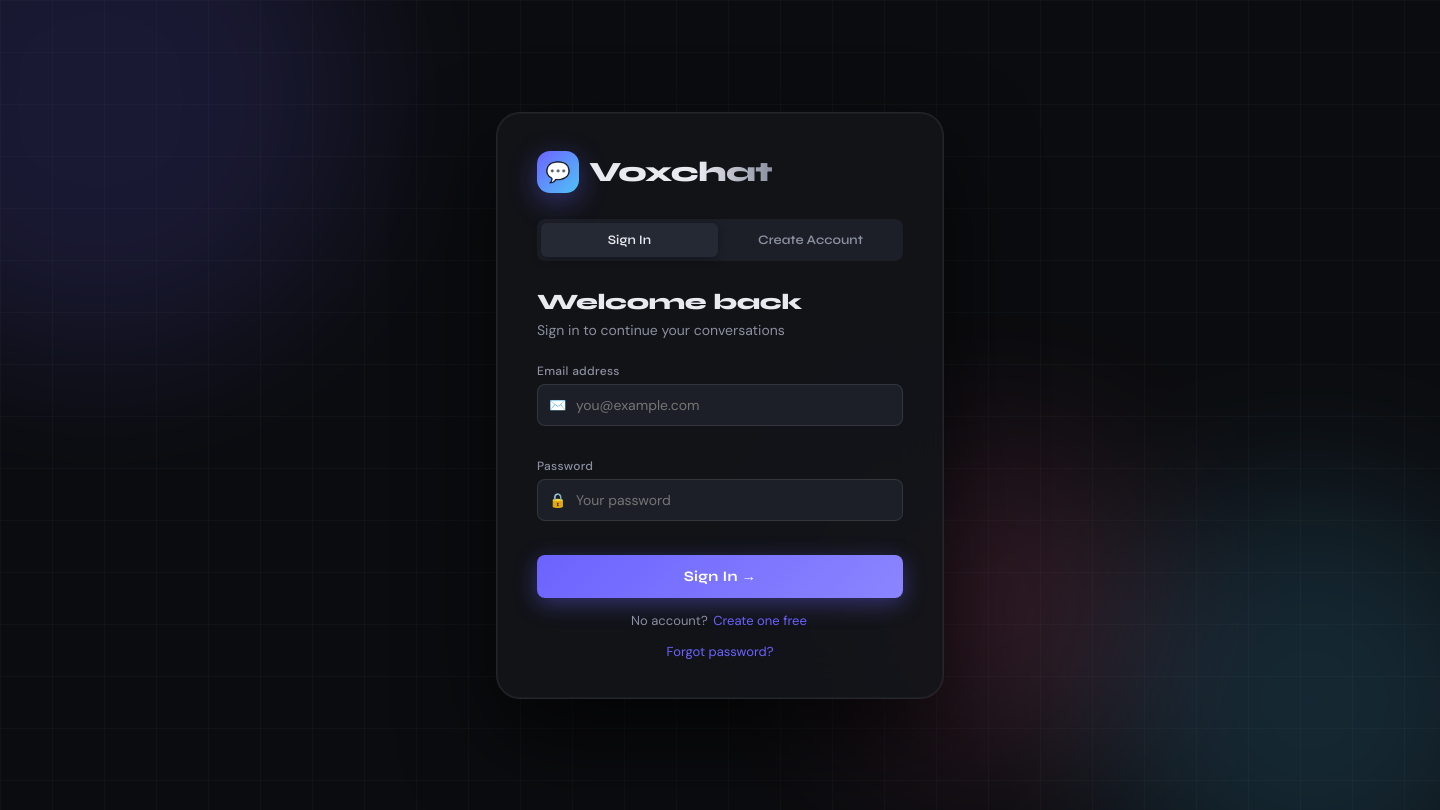
Test: AuthPage › login API error shows message
Type "test@example.com" into the field labelled "Email address". click: (720, 404)
box: 537,384 -> 903,426
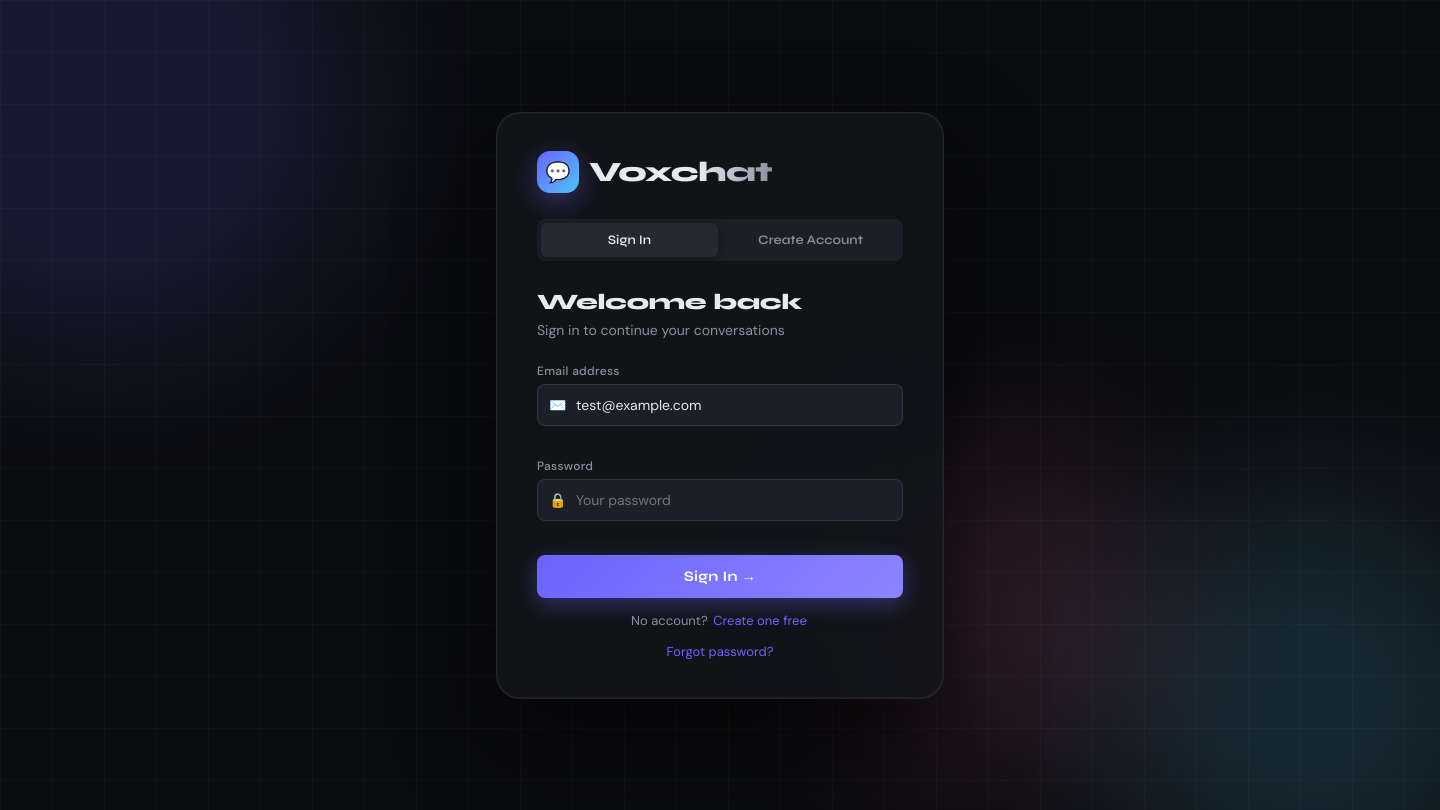
Type "password123" into the password field labelled "Password". click: (720, 500)
box: 537,478 -> 903,520
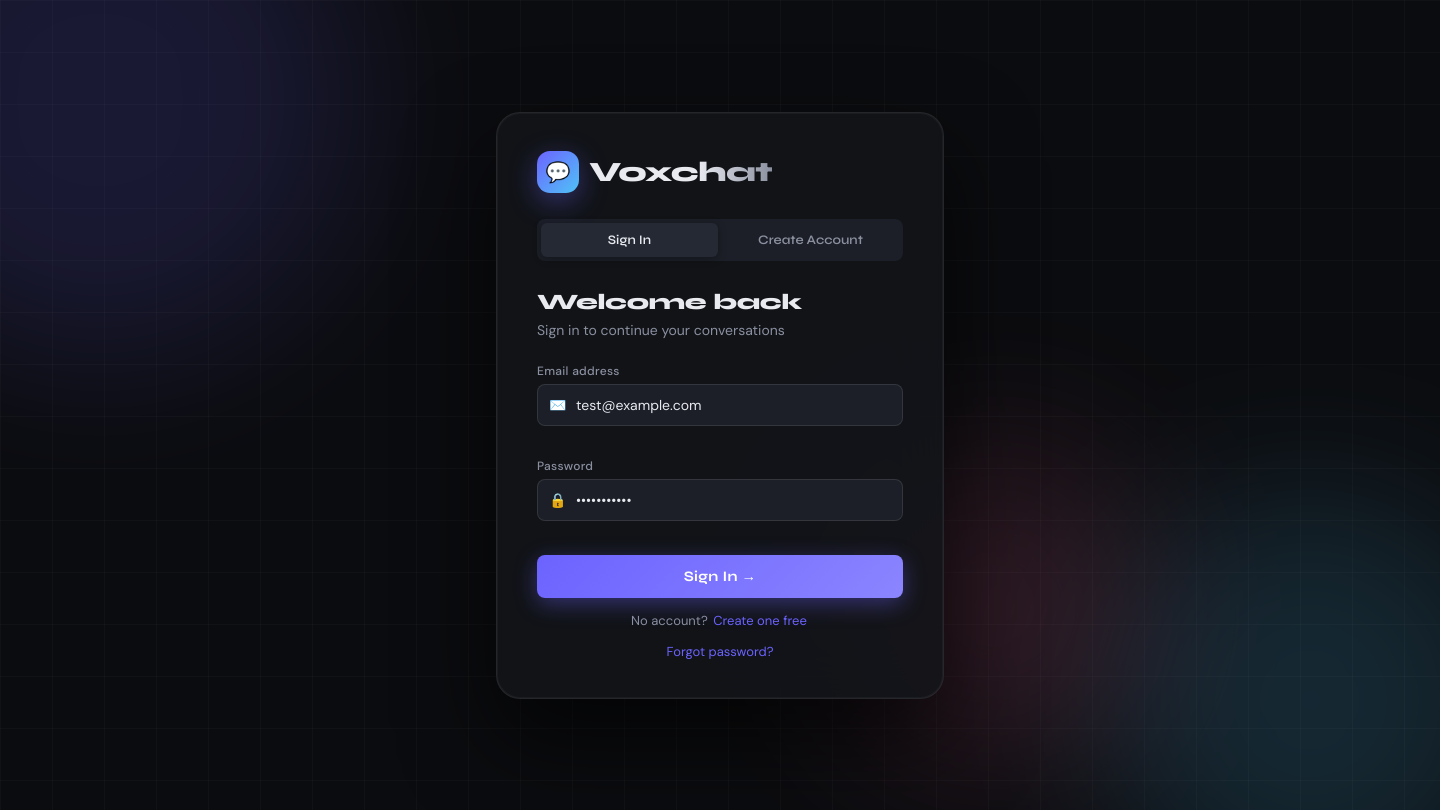
Click the button "Sign In →". click: (720, 576)
box: 537,554 -> 903,598
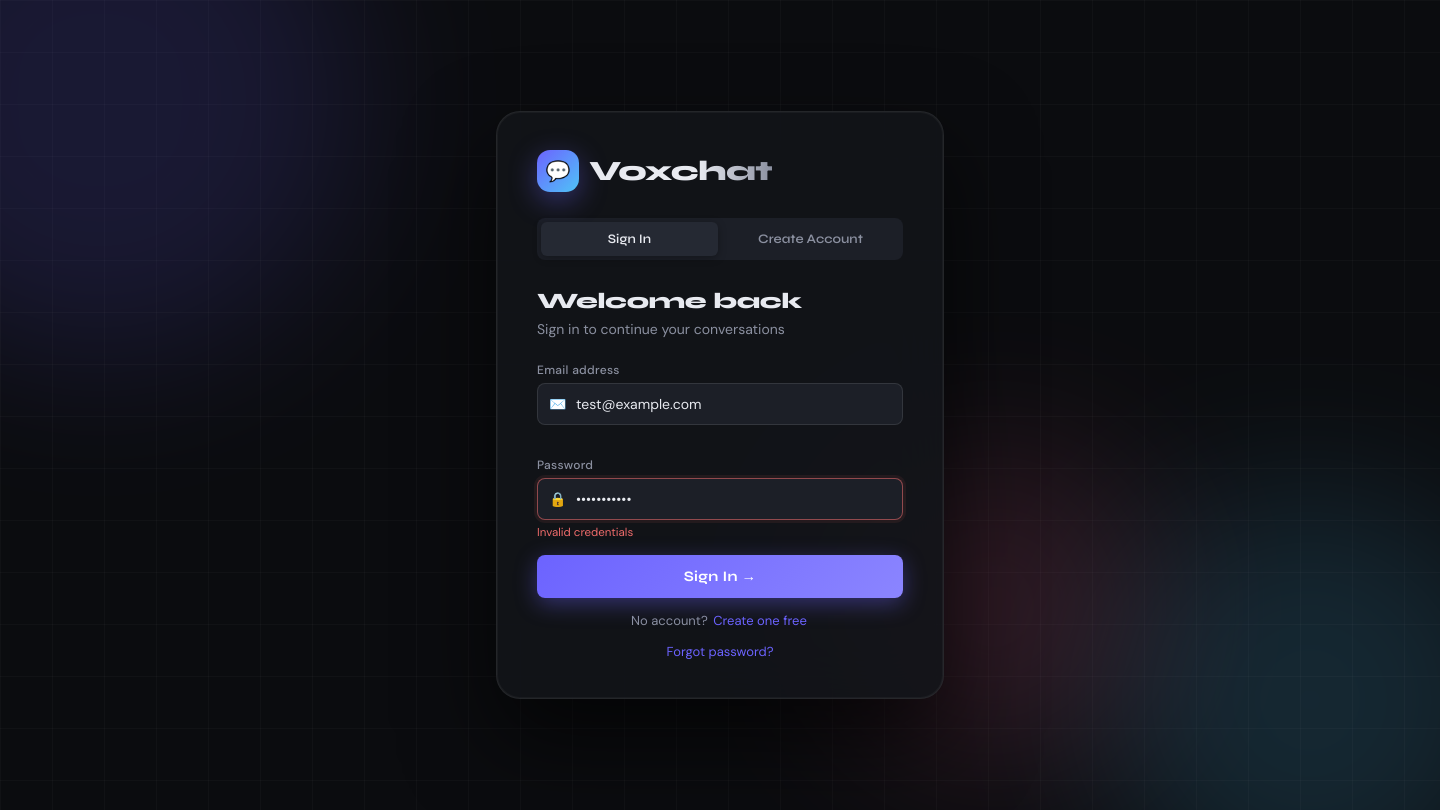
Result: the text "Invalid credentials" is shown at 537,525 -> 633,540
